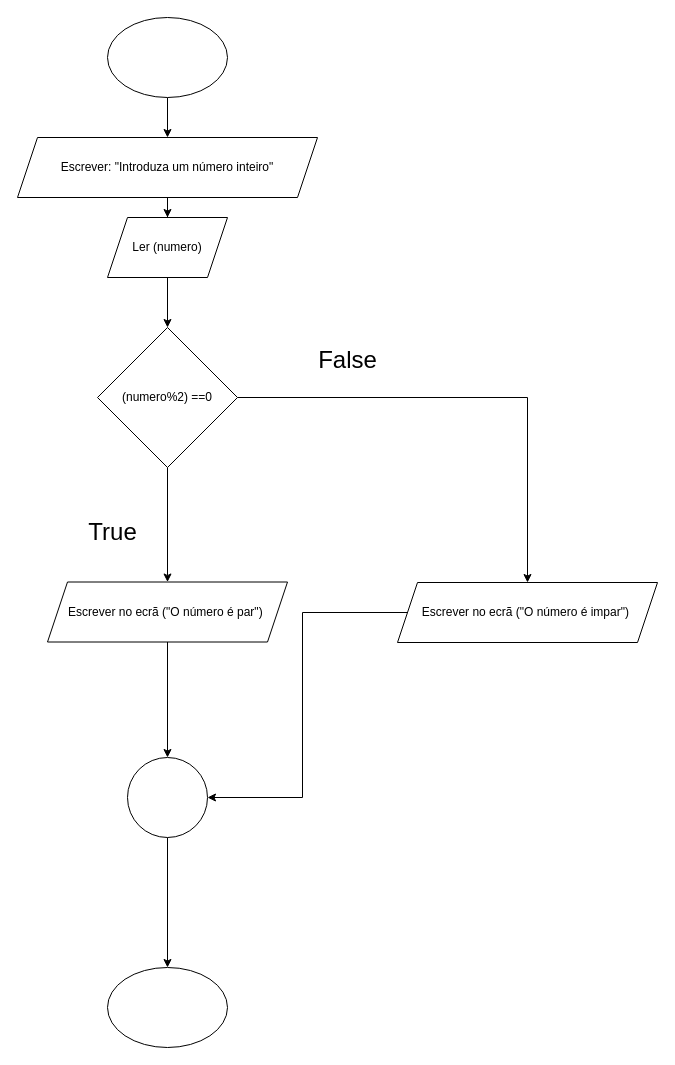
Image size: 675x1065. Some labels were removed from this diagram. Each missing label, with the box of its shape:
Fim: (106, 966, 228, 1048)
Início: (106, 16, 228, 98)
